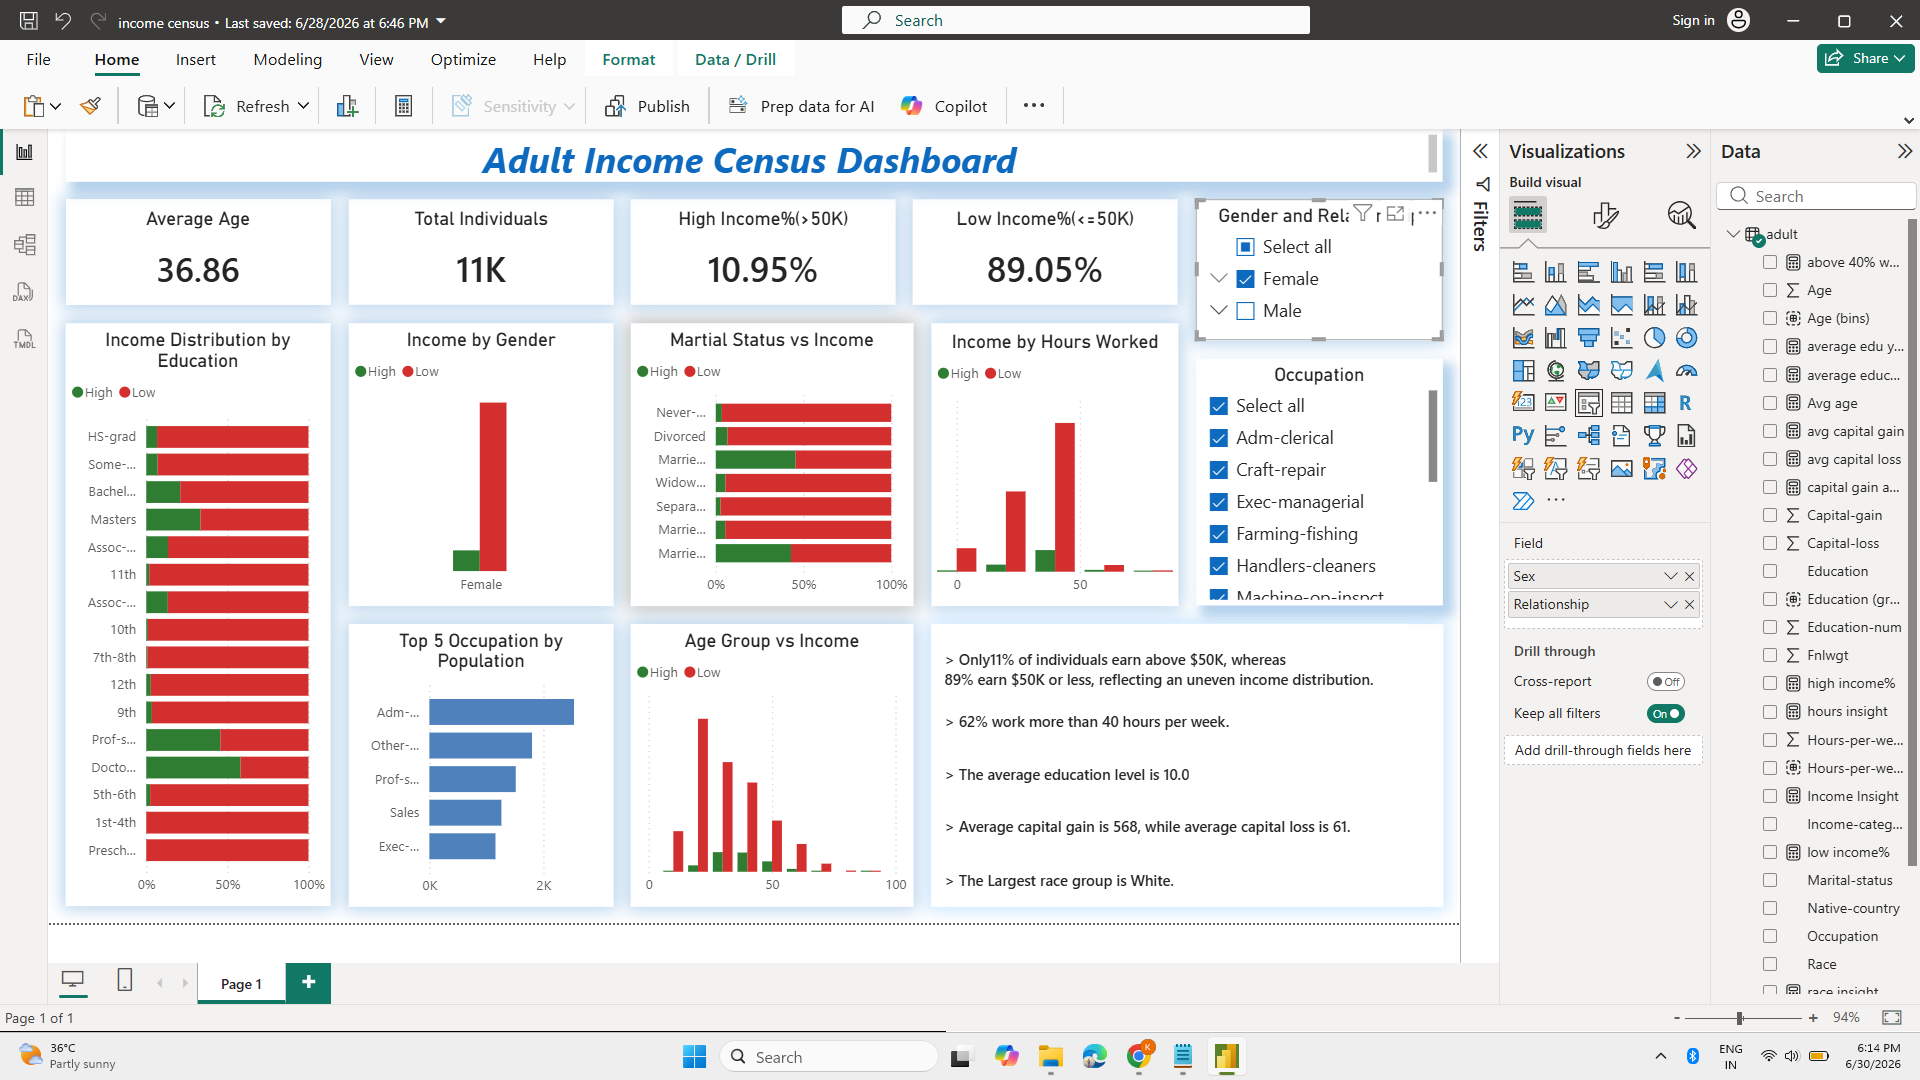

The dashboard page shown, as its layout file describes it:
{"tool":"powerbi","page":{"name":"Page 1","canvas":[1280,720],"ordinal":0},"visuals":[{"type":"shape","box":[800,448,464,256],"z":0},{"type":"slicer","title":"Occupation","fields":{"Values":["adult.Occupation"]},"box":[1040,208,224,224],"z":1000},{"type":"cardVisual","title":"Average Age","fields":{"Data":["adult.Avg age"]},"box":[16,64,240,96],"z":2000},{"type":"cardVisual","title":"Total Individuals","fields":{"Data":["adult.total population"]},"box":[272,64,240,96],"z":3000},{"type":"cardVisual","title":"High Income%(>50K)","fields":{"Data":["adult.high income%"]},"box":[528,64,240,96],"z":4000},{"type":"cardVisual","title":"Low Income%(<=50K)","fields":{"Data":["adult.low income%"]},"box":[784,64,240,96],"z":5000},{"type":"slicer","title":"Gender and Relationship","fields":{"Values":["adult.Sex","adult.Relationship"]},"box":[1040,64,224,128],"z":6000},{"type":"clusteredColumnChart","title":"Income by Gender","fields":{"Category":["adult.Sex"],"Y":["CountNonNull(adult.Native-country)"],"Series":["adult.Income-category"]},"box":[272,176,240,256],"z":7000},{"type":"barChart","title":"Top 5 Occupation by Population","fields":{"Category":["adult.Occupation"],"Y":["adult.total population"]},"box":[272,448,240,256],"z":8000},{"type":"hundredPercentStackedBarChart","title":"Income Distribution by Education","fields":{"Y":["adult.total population"],"Category":["adult.Education"],"Series":["adult.Income-category"]},"box":[16,176,240,528],"z":9000},{"type":"hundredPercentStackedBarChart","title":"Martial Status vs Income","fields":{"Category":["adult.Marital-status"],"Y":["adult.total population"],"Series":["adult.Income-category"]},"box":[528,176,256,256],"z":10000},{"type":"clusteredColumnChart","title":"Age Group vs Income","fields":{"Y":["adult.total population"],"Series":["adult.Income-category"],"Category":["adult.Age (bins)"]},"box":[528,448,256,256],"z":11000},{"type":"clusteredColumnChart","title":"Income by Hours Worked","fields":{"Series":["adult.Income-category"],"Y":["adult.total population"],"Category":["adult.Hours-per-week (bins)"]},"box":[800,176,224,256],"z":12000},{"type":"cardVisual","title":"     Income Insight","fields":{"Data":["adult.income insight"]},"box":[800,448,432,80],"z":13000},{"type":"cardVisual","fields":{"Data":["adult.hours insight"]},"box":[800,512,432,48],"z":14000},{"type":"cardVisual","fields":{"Data":["adult.average edu year insights"]},"box":[800,560,352,48],"z":15000},{"type":"cardVisual","fields":{"Data":["adult.capital gain and loss"]},"box":[800,608,432,48],"z":16000},{"type":"cardVisual","fields":{"Data":["adult.race insight"]},"box":[800,656,304,48],"z":17000},{"type":"shape","box":[16,0,1248,48],"z":18000},{"type":"textbox","box":[16,0,1248,48],"z":19000}]}

Visuals, with their boxes on the page's 1280x720 design canvas (x1, y1, x2, y2). These are canvas units, not pixel positions in the 1920x1080 screenshot, which may show the page scaled, cropped or inside an application window:
shape: {"left": 800, "top": 448, "right": 1264, "bottom": 704}
"Occupation" slicer: {"left": 1040, "top": 208, "right": 1264, "bottom": 432}
"Average Age" cardVisual: {"left": 16, "top": 64, "right": 256, "bottom": 160}
"Total Individuals" cardVisual: {"left": 272, "top": 64, "right": 512, "bottom": 160}
"High Income%(>50K)" cardVisual: {"left": 528, "top": 64, "right": 768, "bottom": 160}
"Low Income%(<=50K)" cardVisual: {"left": 784, "top": 64, "right": 1024, "bottom": 160}
"Gender and Relationship" slicer: {"left": 1040, "top": 64, "right": 1264, "bottom": 192}
"Income by Gender" clusteredColumnChart: {"left": 272, "top": 176, "right": 512, "bottom": 432}
"Top 5 Occupation by Population" barChart: {"left": 272, "top": 448, "right": 512, "bottom": 704}
"Income Distribution by Education" hundredPercentStackedBarChart: {"left": 16, "top": 176, "right": 256, "bottom": 704}
"Martial Status vs Income" hundredPercentStackedBarChart: {"left": 528, "top": 176, "right": 784, "bottom": 432}
"Age Group vs Income" clusteredColumnChart: {"left": 528, "top": 448, "right": 784, "bottom": 704}
"Income by Hours Worked" clusteredColumnChart: {"left": 800, "top": 176, "right": 1024, "bottom": 432}
"     Income Insight" cardVisual: {"left": 800, "top": 448, "right": 1232, "bottom": 528}
cardVisual - adult.hours insight: {"left": 800, "top": 512, "right": 1232, "bottom": 560}
cardVisual - adult.average edu year insights: {"left": 800, "top": 560, "right": 1152, "bottom": 608}
cardVisual - adult.capital gain and loss: {"left": 800, "top": 608, "right": 1232, "bottom": 656}
cardVisual - adult.race insight: {"left": 800, "top": 656, "right": 1104, "bottom": 704}
shape: {"left": 16, "top": 0, "right": 1264, "bottom": 48}
textbox: {"left": 16, "top": 0, "right": 1264, "bottom": 48}
